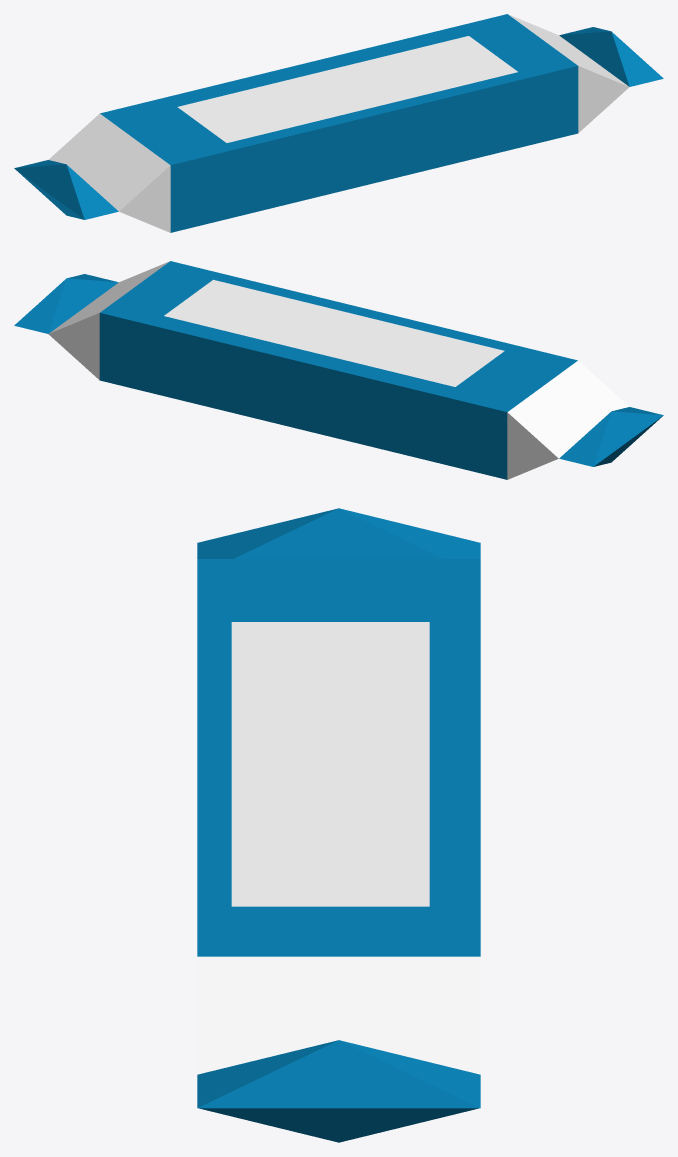
File: CandyBar.fbx
3 renders of one model, top to bottom at view 1: azimuth 30°, elevation 25°; view 2: azimuth 150°, elevation 25°; view 3: azimuth 270°, elevation 25°, orthographic. The views are drawn at different scales.
Visible parts, largest first — view 1: CandyBar; view 2: CandyBar; view 3: CandyBar.
Part boxes in pixels (x1,y1,x2,y2): CandyBar: (14, 14, 663, 232); CandyBar: (14, 261, 663, 479); CandyBar: (197, 508, 480, 1142).
Bounding box in the file's own units: 0.2363 × 0.0264 × 0.05.
